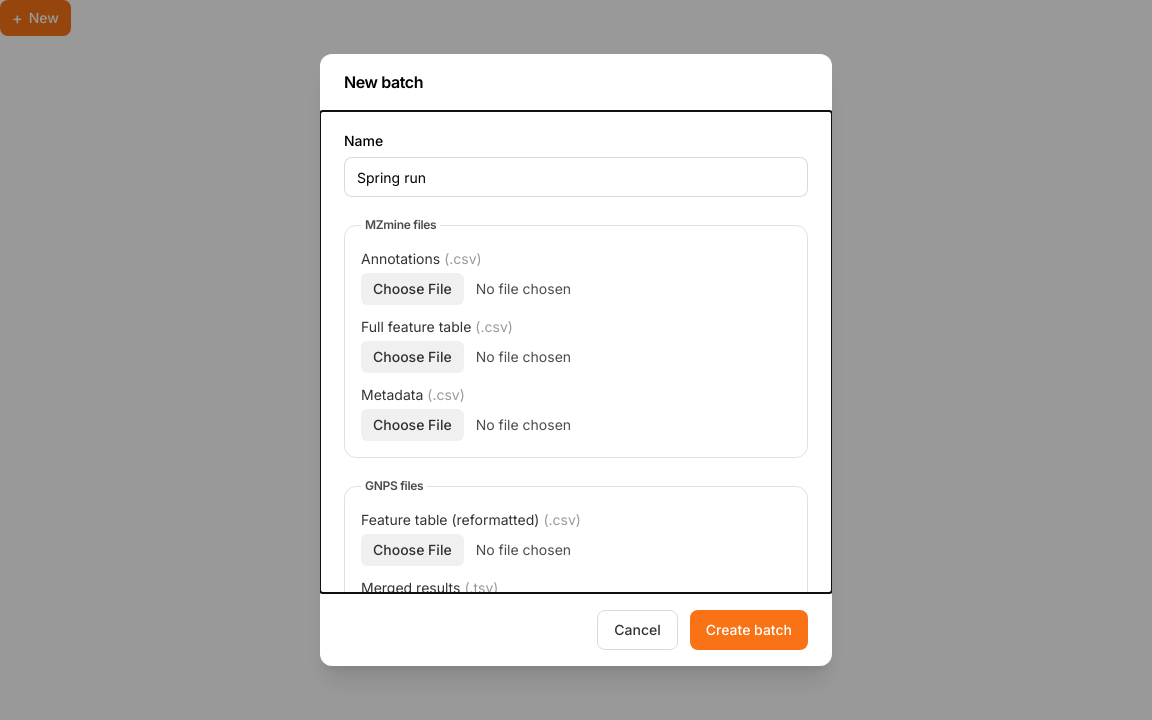
Scenario: NewBatchDialog › validation › keeps submit disabled if the name is blank
This screenshot has width=1152, height=720.
Earlier steps of the test are not shown.
Clear the field labelled "Name" at (576, 177), box x1=344 y1=157 x2=808 y2=197
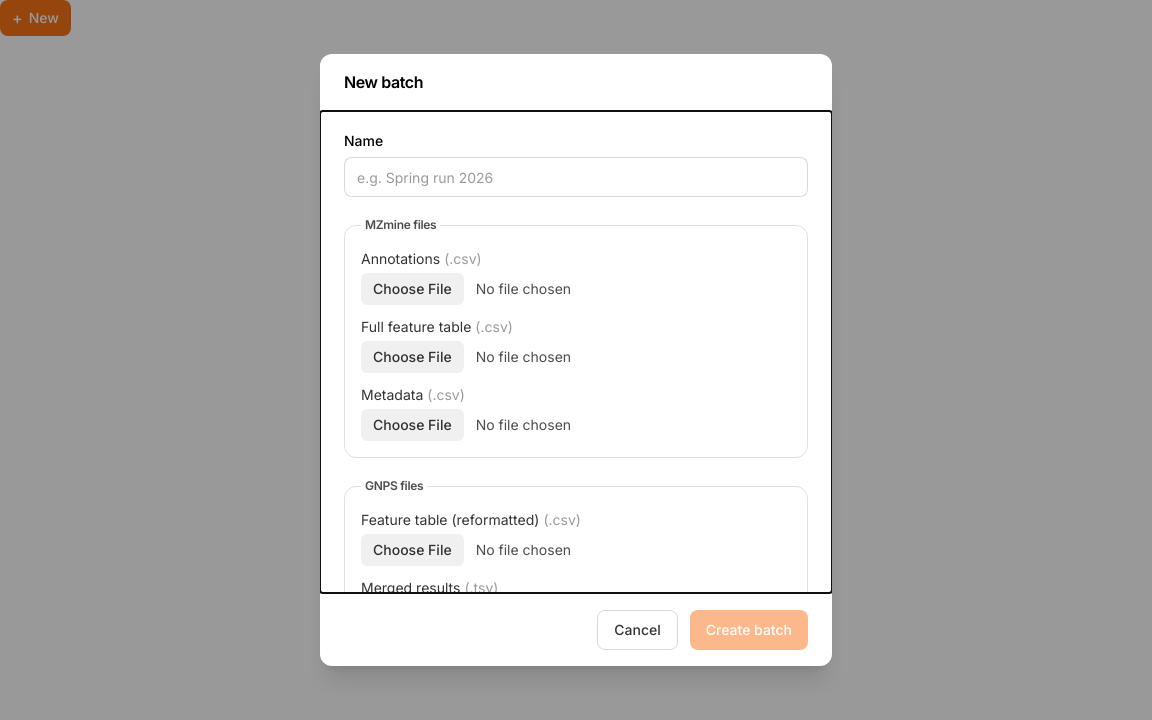
Expected: the button "Create batch" is disabled, x1=690 y1=610 x2=808 y2=650
